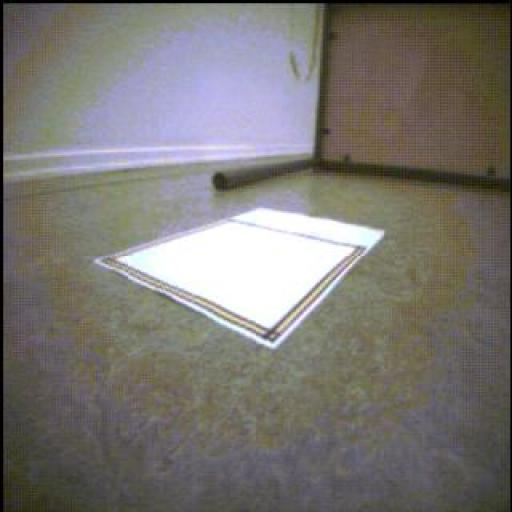Pad: (97, 209, 385, 350)
